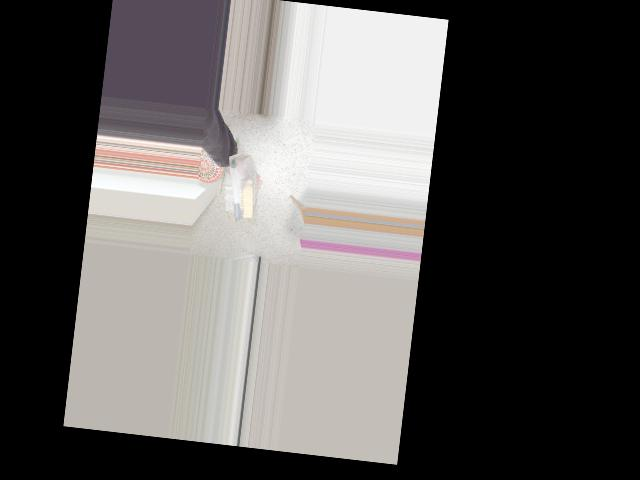cheese: (219, 149, 263, 221)
